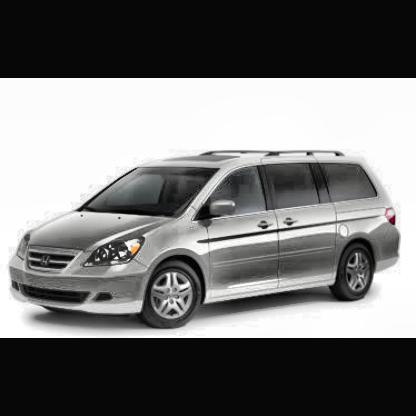Honda Odyssey Minivan 2007: (10, 151, 402, 330)
